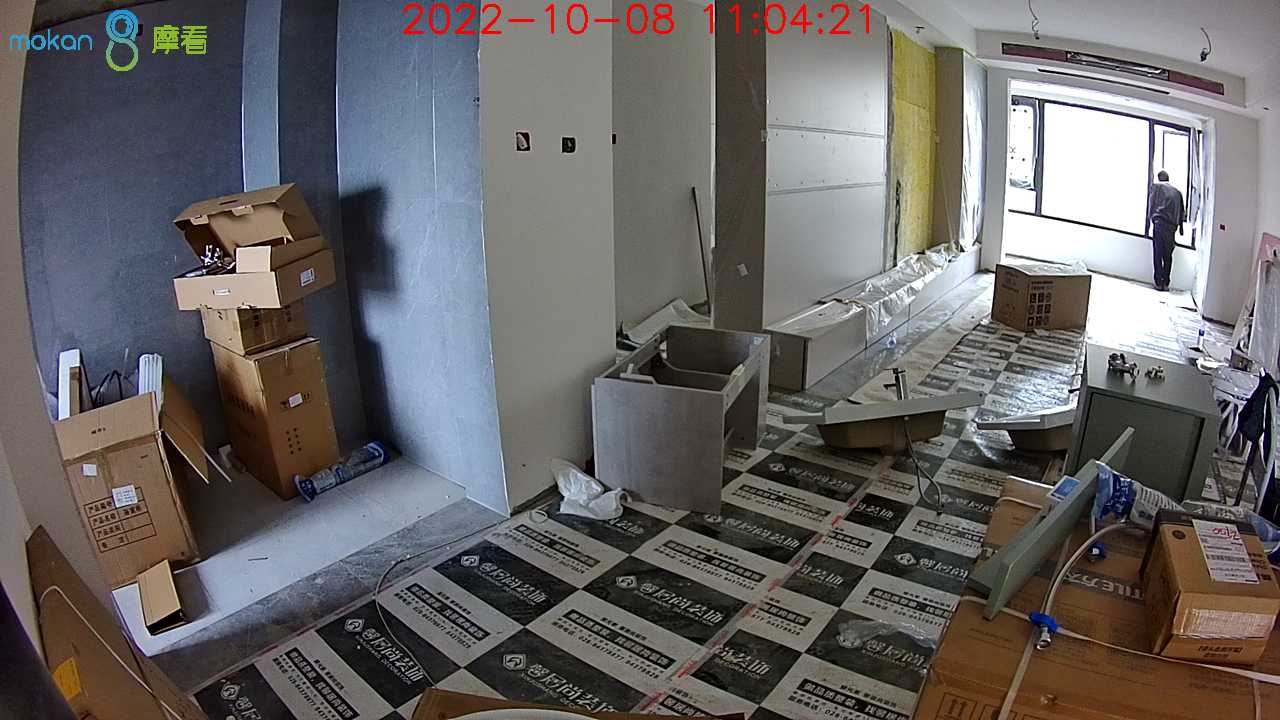people: (1144, 172, 1188, 292)
window: (1006, 92, 1198, 246)
